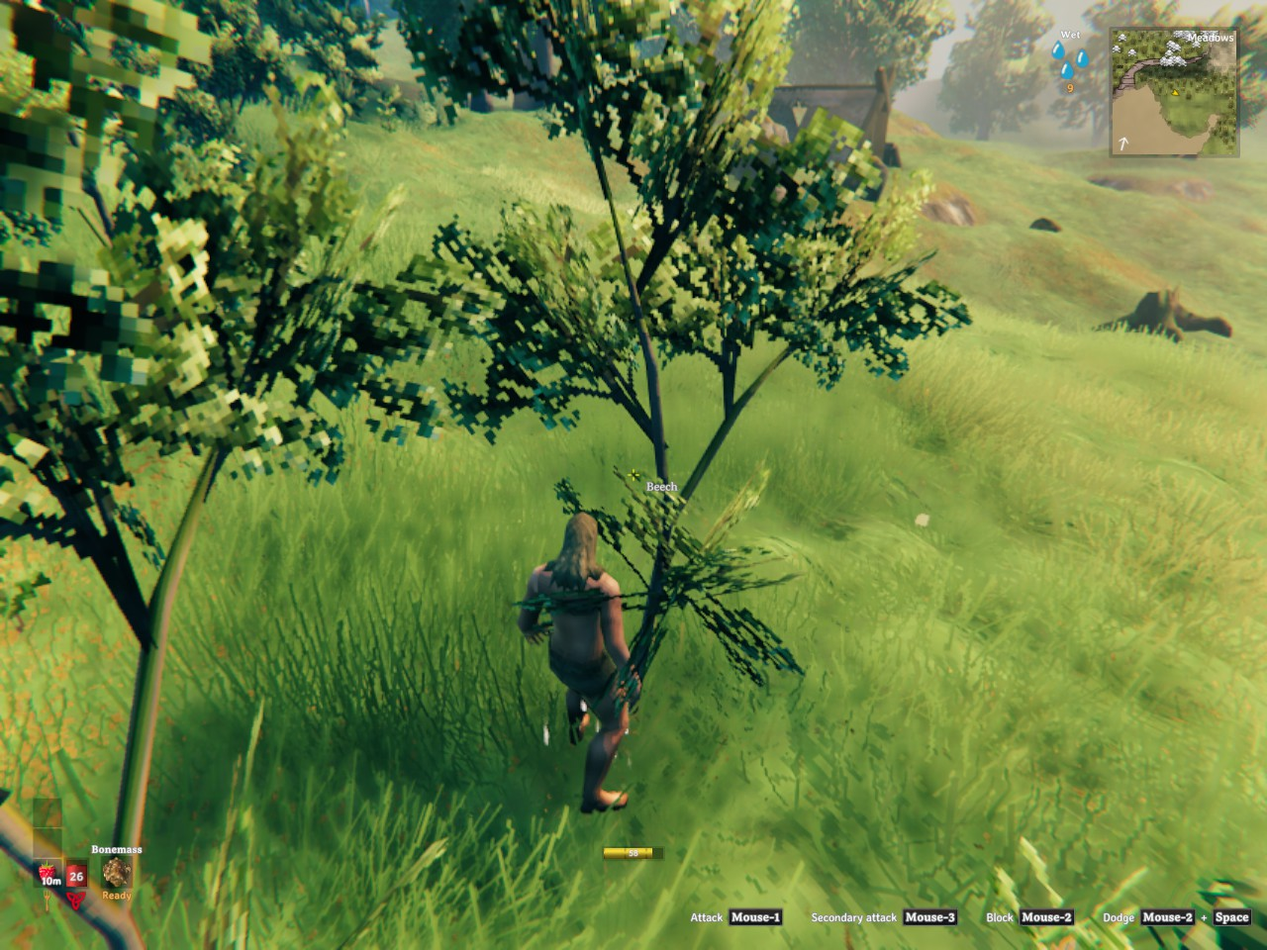House: (767, 68, 900, 179)
